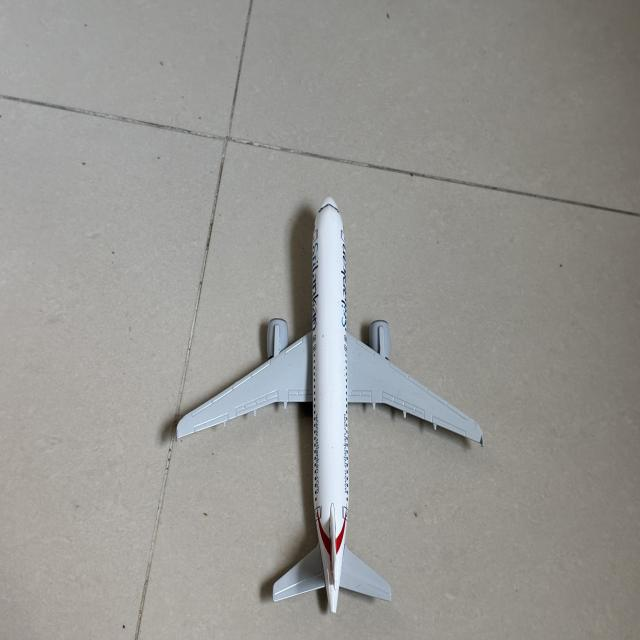air-plane: (177, 198, 483, 612)
fire-truck: (140, 199, 483, 618), (89, 440, 209, 639)
